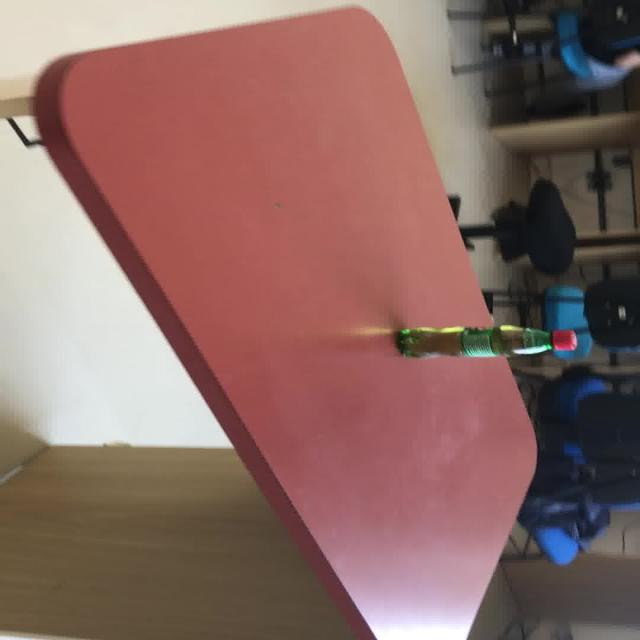guarana: (30, 4, 552, 637), (393, 323, 576, 359)
